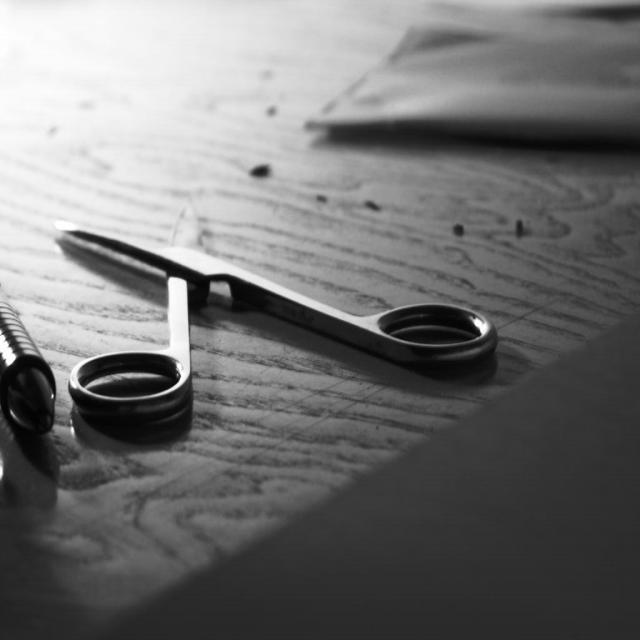scissor: (52, 194, 497, 433)
